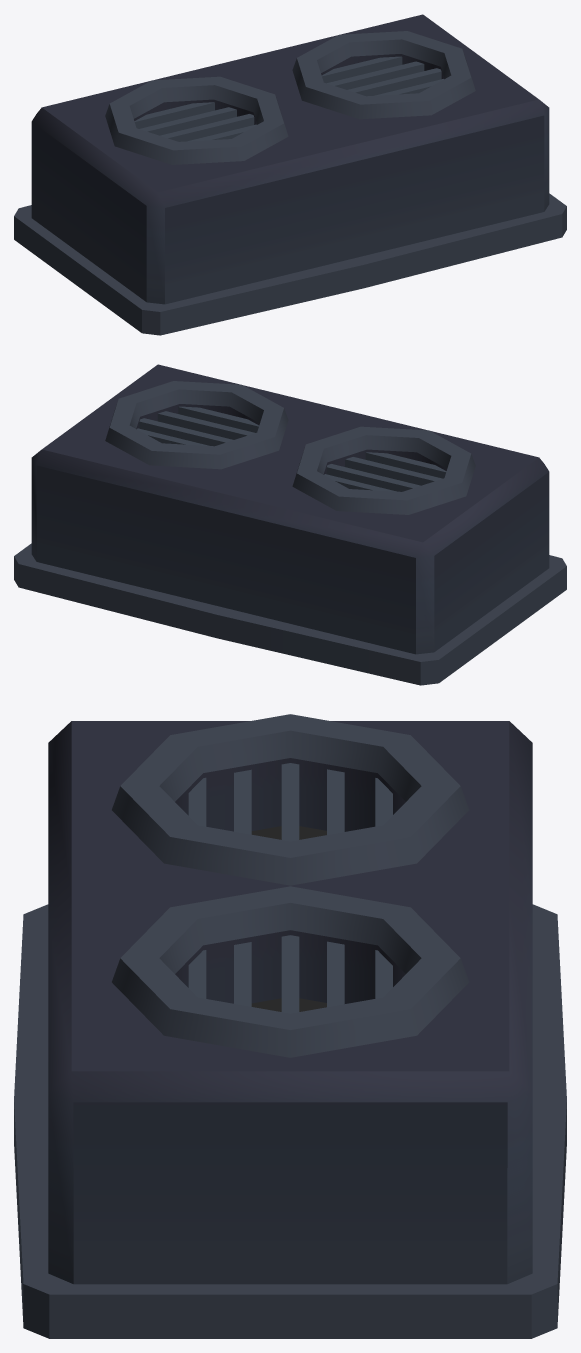
The model's file is Vent_3_B.fbx.
The picture shows the model from 3 angles, top to bottom: view 1: azimuth 30°, elevation 25°; view 2: azimuth 150°, elevation 25°; view 3: azimuth 270°, elevation 25°; orthographic projection. The views are drawn at different scales.
Parts seen in each view (by area): view 1: Vent_3_B; view 2: Vent_3_B; view 3: Vent_3_B.
Boxes of the visible parts, x1,y1,x2,y2 form: Vent_3_B: [14, 14, 566, 335]; Vent_3_B: [14, 364, 566, 685]; Vent_3_B: [14, 714, 566, 1338].
Size of the model in its own units: 323 by 105 by 193.
